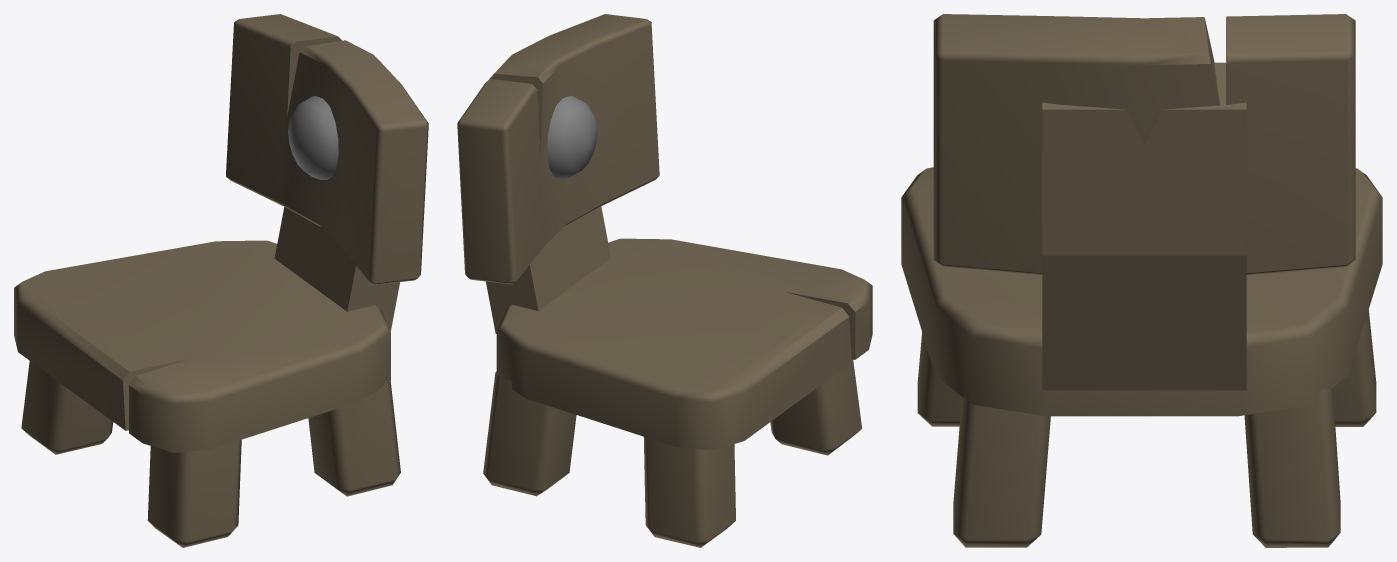
The model's file is SM_Chair.fbx.
The picture shows the model from 3 angles, left to right: view 1: azimuth 30°, elevation 25°; view 2: azimuth 150°, elevation 25°; view 3: azimuth 270°, elevation 25°; orthographic projection. The views are drawn at different scales.
Parts seen in each view (by area): view 1: polySurface7; view 2: polySurface7; view 3: polySurface7.
Part boxes in pixels (x1,y1,x2,y2): polySurface7: (14,14,428,547); polySurface7: (457,14,872,547); polySurface7: (901,14,1382,547).
Bounding box in the file's own units: 53.42 × 64.7 × 53.13.
